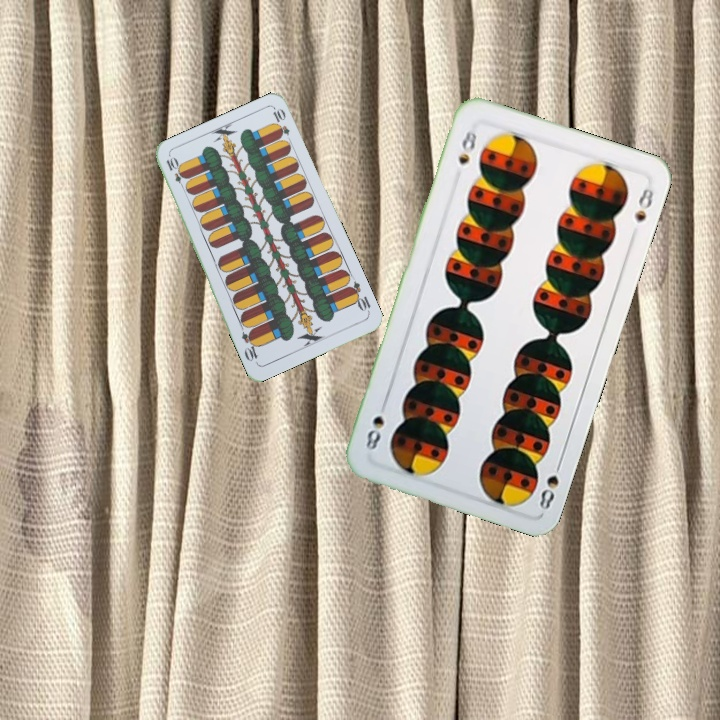E10: (344, 277, 374, 316), (162, 153, 189, 192)
S8: (535, 455, 565, 513), (454, 126, 480, 167)
